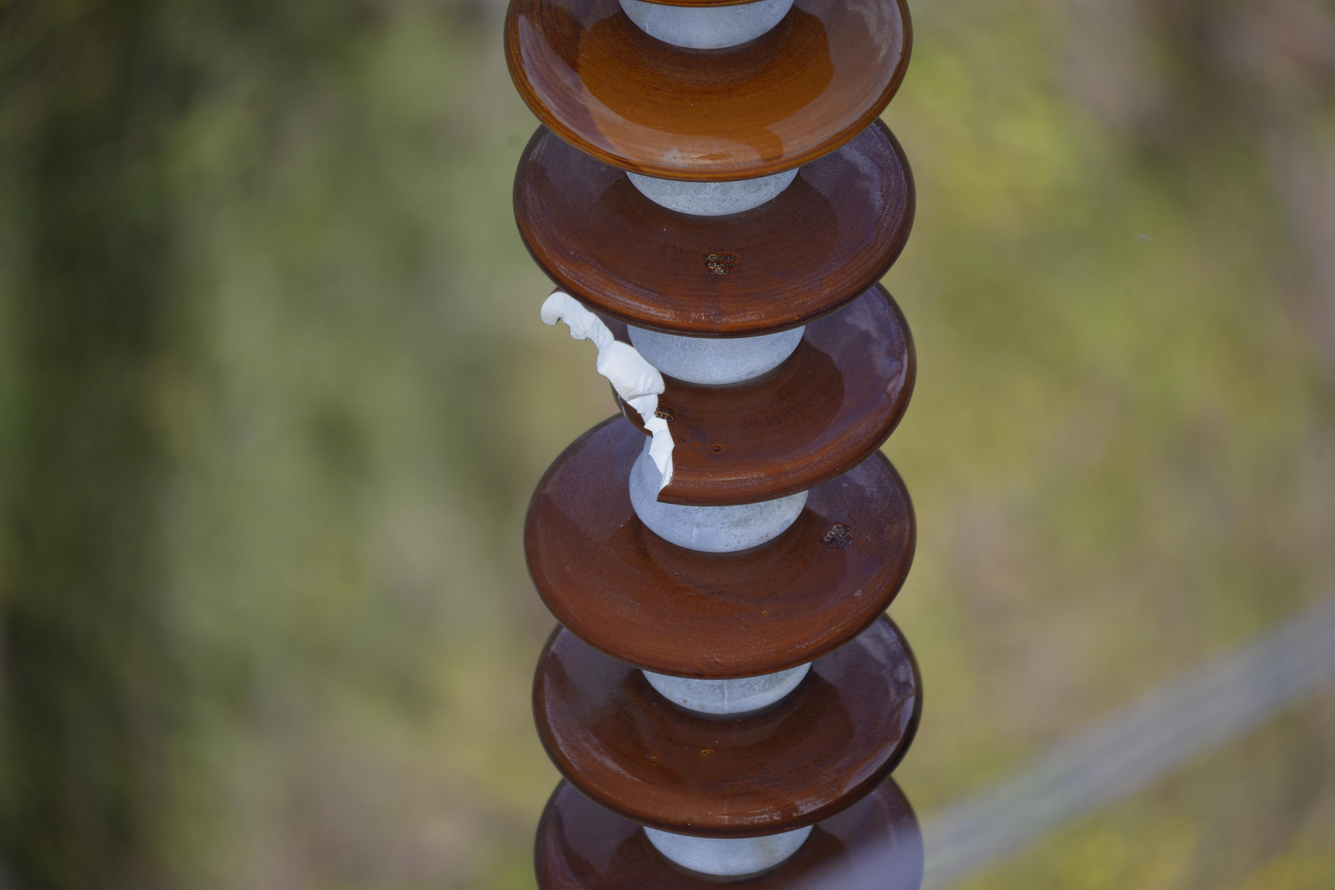damaged: (531, 287, 716, 506)
insulator: (504, 0, 940, 890)
